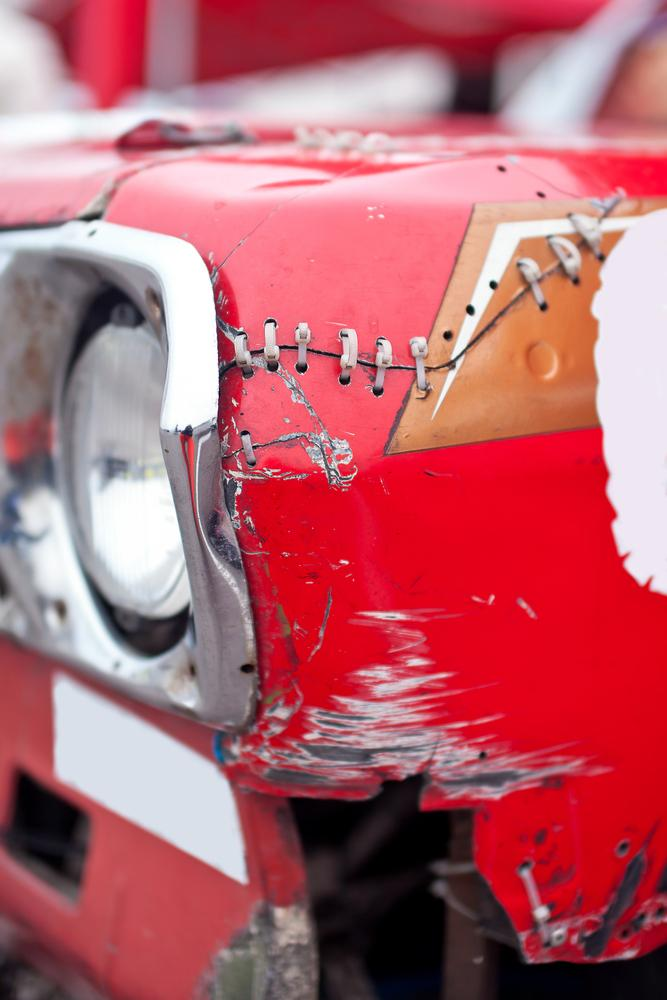scratch: (226, 349, 602, 802)
